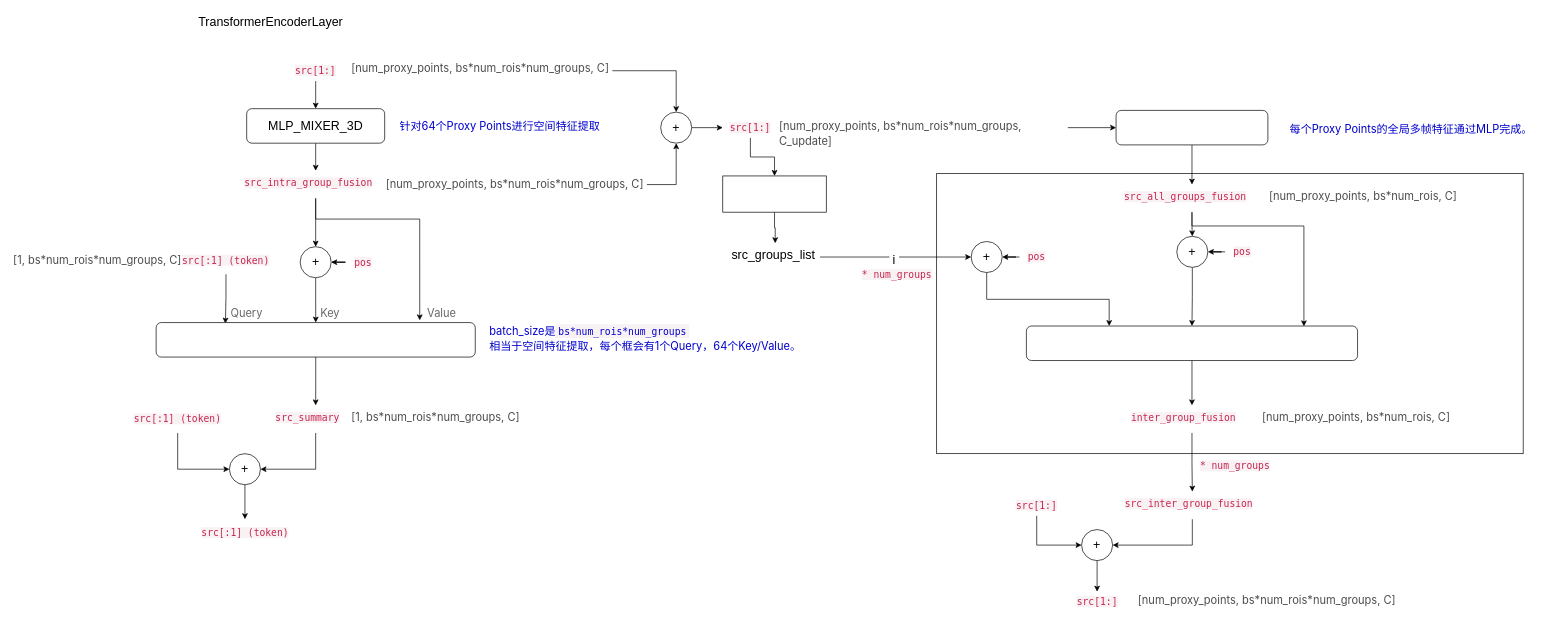
The diagram is 1555 pixels wide and 627 high, and some of its shapes have lost their labels. Each missing label, with the centre of its shape:
"CROSS_ATTN" belongs at point (1192, 343).
"FUSION_ALL_GROUP" belongs at point (1191, 127).
"SELF_ATTN" belongs at point (315, 339).
"尺寸转换" belongs at point (774, 193).
